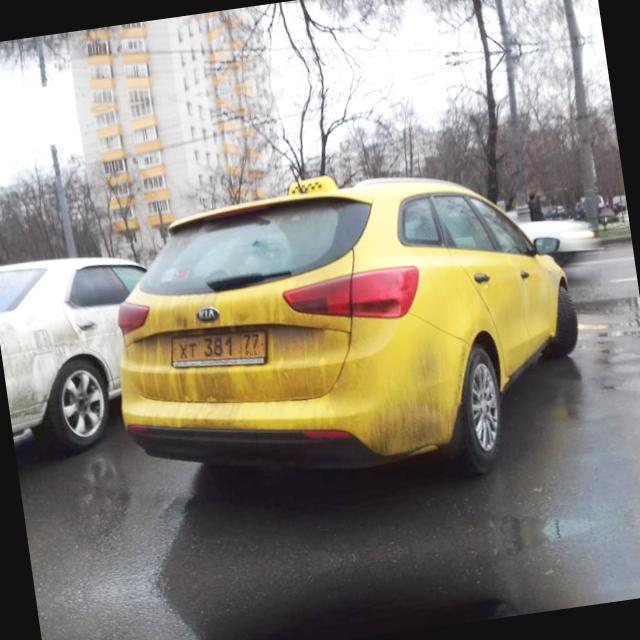taxi: (158, 316, 280, 382)
